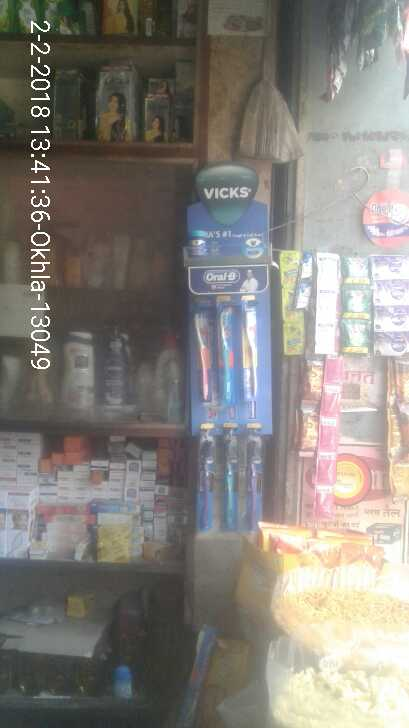pharmacy: (187, 303, 213, 411), (217, 306, 243, 414), (243, 302, 269, 410), (241, 421, 267, 529), (219, 421, 245, 529), (195, 423, 221, 531), (187, 227, 265, 261)
